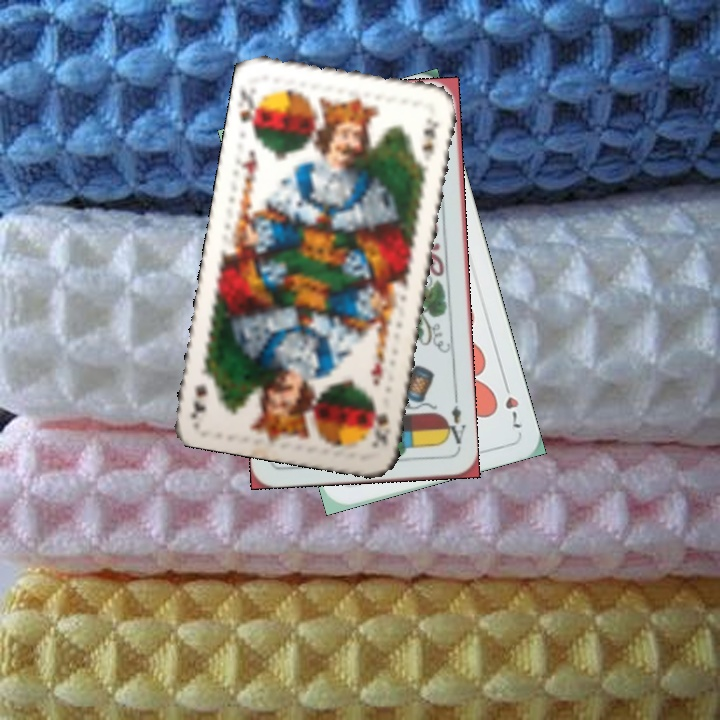EA: (441, 402, 468, 452)
H7: (498, 376, 526, 431)
SK: (235, 86, 263, 137), (368, 399, 391, 451)
